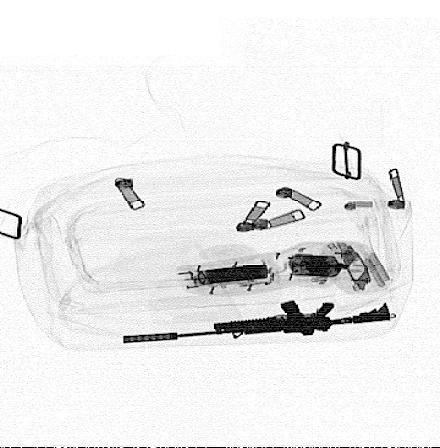Gun: (116, 301, 395, 345)
